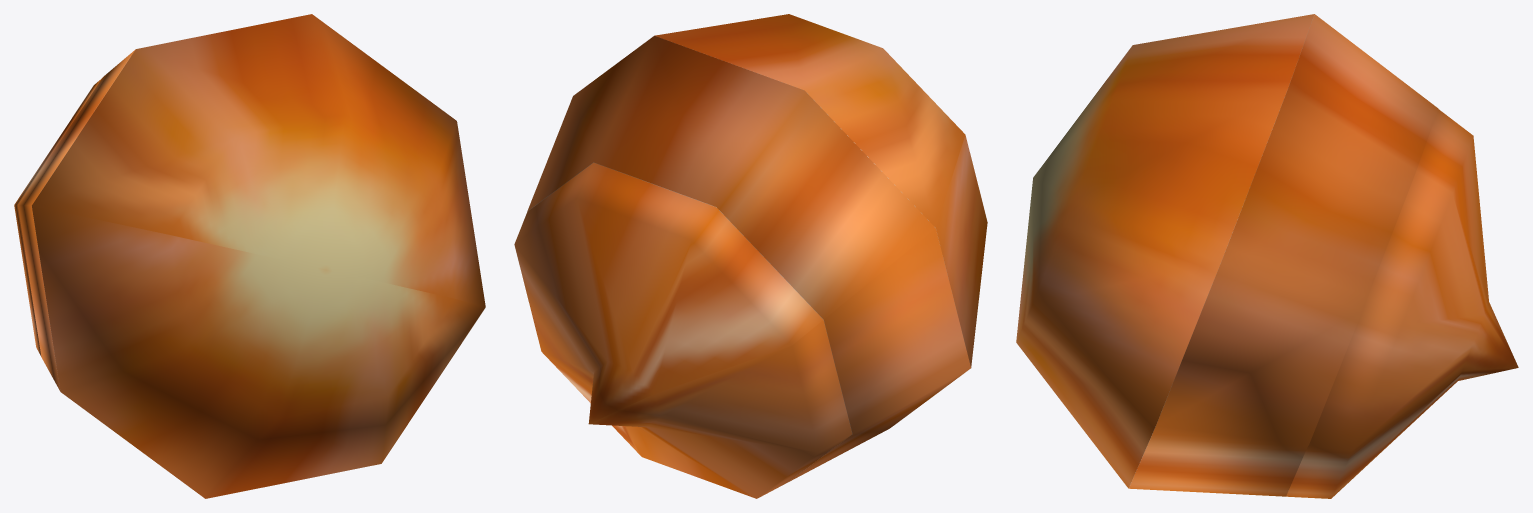
File: Onion_slice.fbx
3 renders of one model, left to right at view 1: azimuth 30°, elevation 25°; view 2: azimuth 150°, elevation 25°; view 3: azimuth 270°, elevation 25°, orthographic. The views are drawn at different scales.
Parts seen in each view (by area): view 1: Onion_01, Onion_02, Onion_03; view 2: Onion_03, Onion_02, Onion_01; view 3: Onion_01, Onion_02, Onion_03.
Part boxes in pixels (bbox=[...]): Onion_01: bbox=[32, 14, 485, 498]; Onion_02: bbox=[18, 49, 135, 391]; Onion_03: bbox=[14, 78, 101, 356]; Onion_03: bbox=[514, 162, 852, 498]; Onion_02: bbox=[527, 35, 970, 482]; Onion_01: bbox=[655, 14, 987, 367]; Onion_01: bbox=[1016, 14, 1314, 488]; Onion_02: bbox=[1129, 14, 1438, 496]; Onion_03: bbox=[1286, 109, 1518, 498].
Size of the model in its own units: 16.73 by 16.37 by 17.88.
